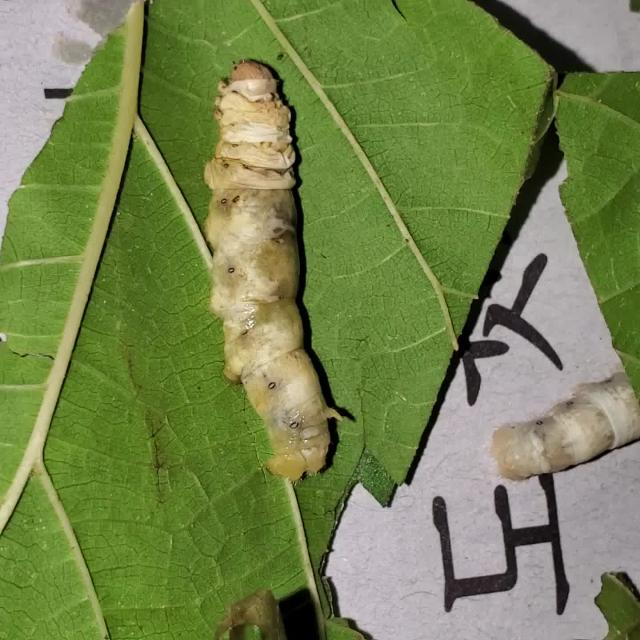Grasserie: (184, 44, 360, 487)
